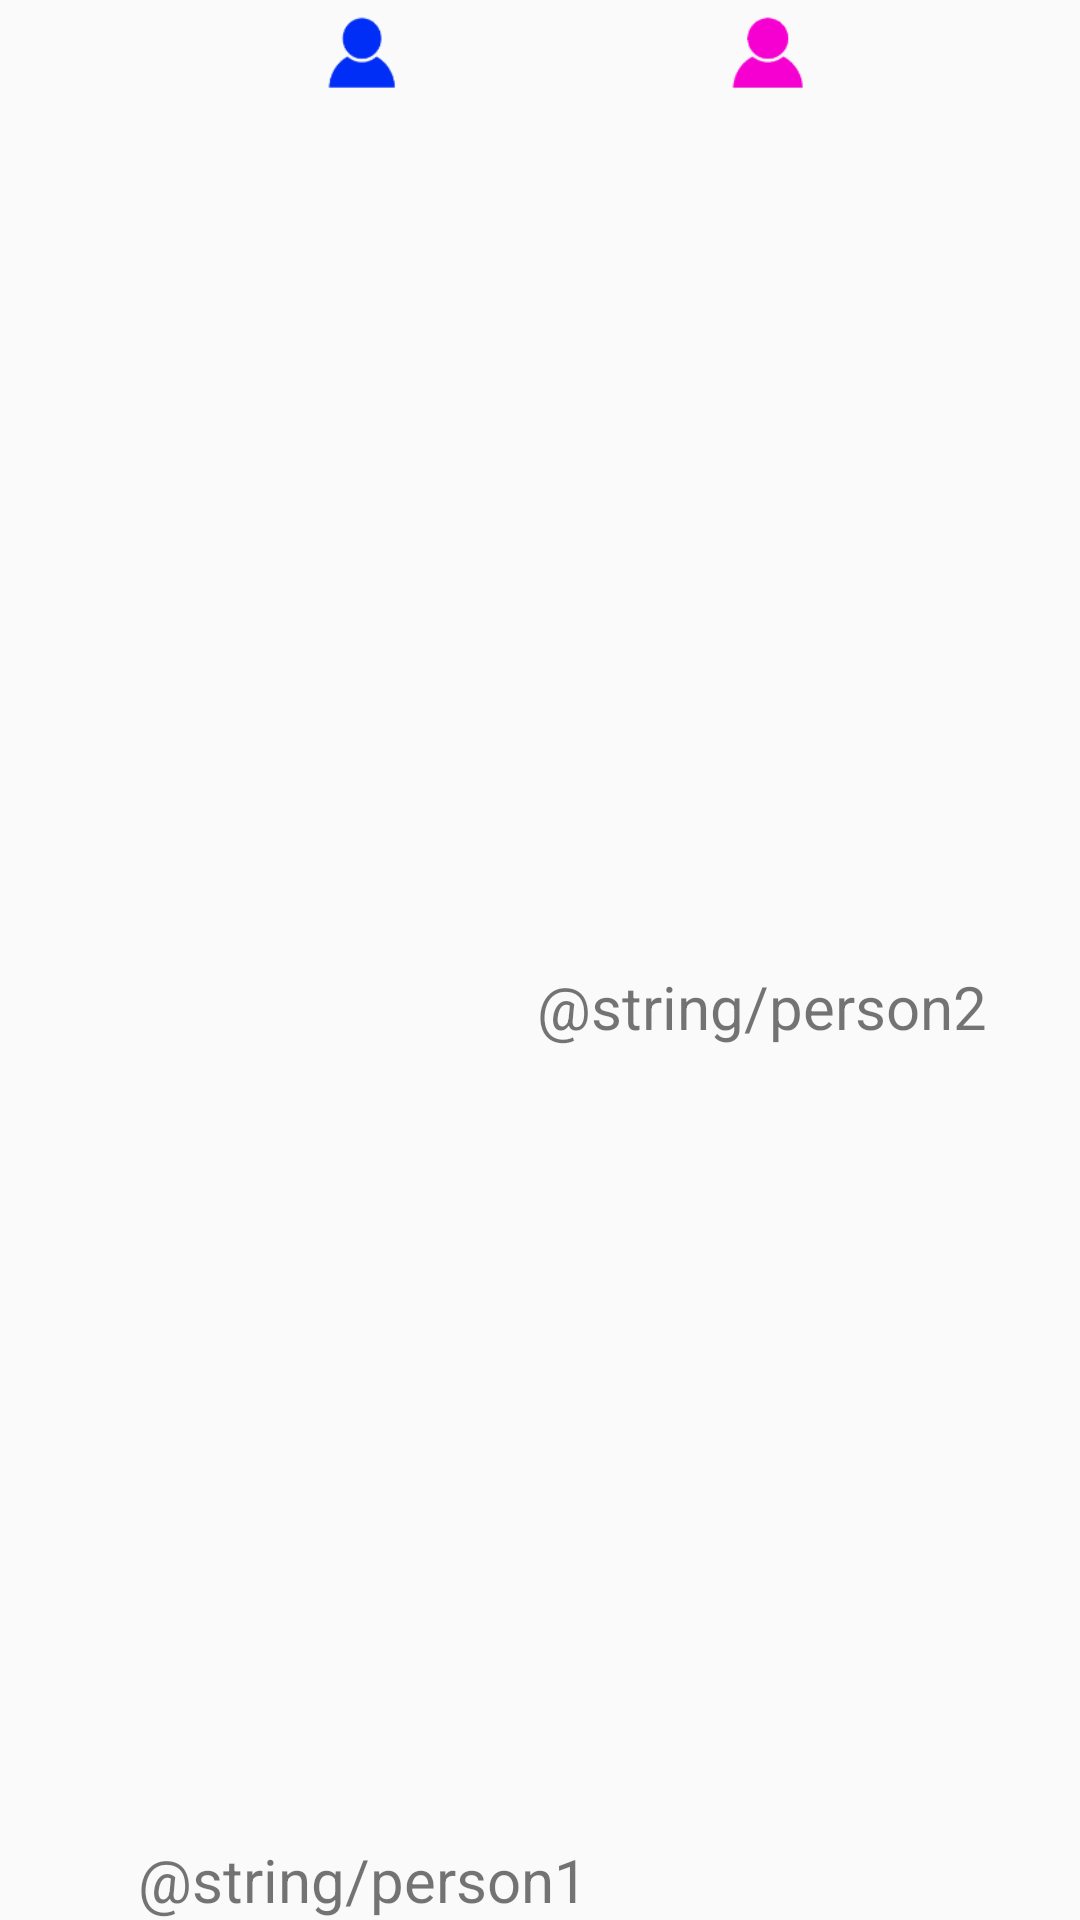

Icons on this 1080×1920 Android screen, each with its box as (x1, y1, x2, y2):
female: (732, 17, 803, 88)
male: (328, 17, 395, 88)
